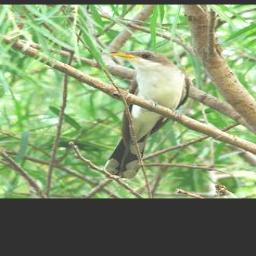Cuckoo: (102, 49, 190, 179)
